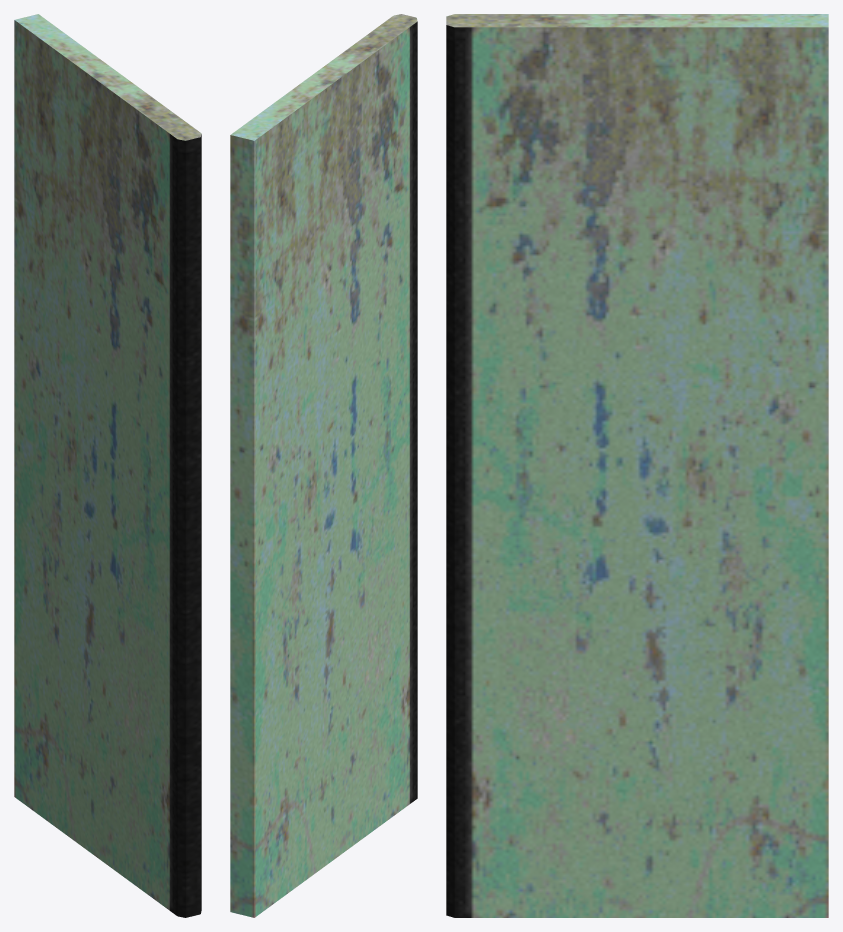
Rendered from Door.fbx.
The picture shows the model from 3 angles, left to right: view 1: azimuth 30°, elevation 25°; view 2: azimuth 150°, elevation 25°; view 3: azimuth 270°, elevation 25°; orthographic projection. The views are drawn at different scales.
Parts seen in each view (by area): view 1: Door; view 2: Door; view 3: Door.
Part boxes in pixels (x1=…): Door: x1=14, y1=14, x2=201, y2=917; Door: x1=230, y1=14, x2=417, y2=917; Door: x1=446, y1=14, x2=828, y2=917.
Bounding box in the file's own units: 0.0663 × 2.04 × 0.7942.
